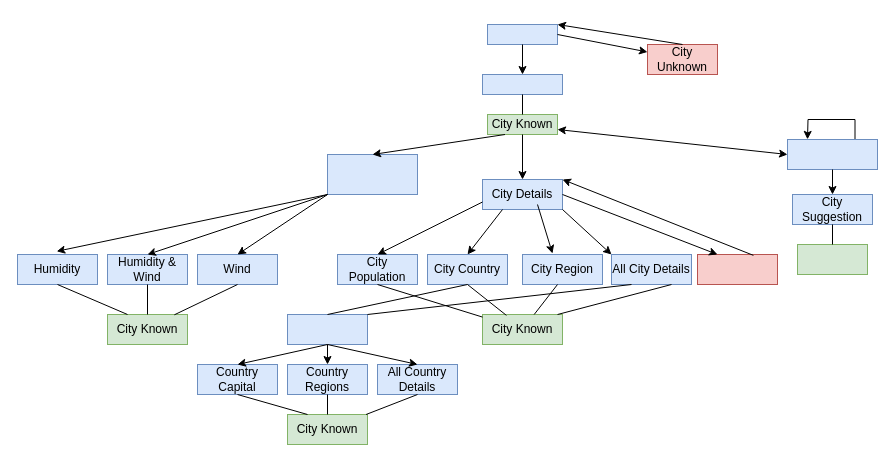
This 895x462 diagram has some shape labels left out. The centre of each missing label's shape, as x and y in pixels:
(New) City Known: [832,259]
Country Known: [327,329]
Details unknown: [737,269]
Sports Suggestion: [832,154]
Start: [522,34]
Weather details: [372,174]
Weather Temp: [522,84]
